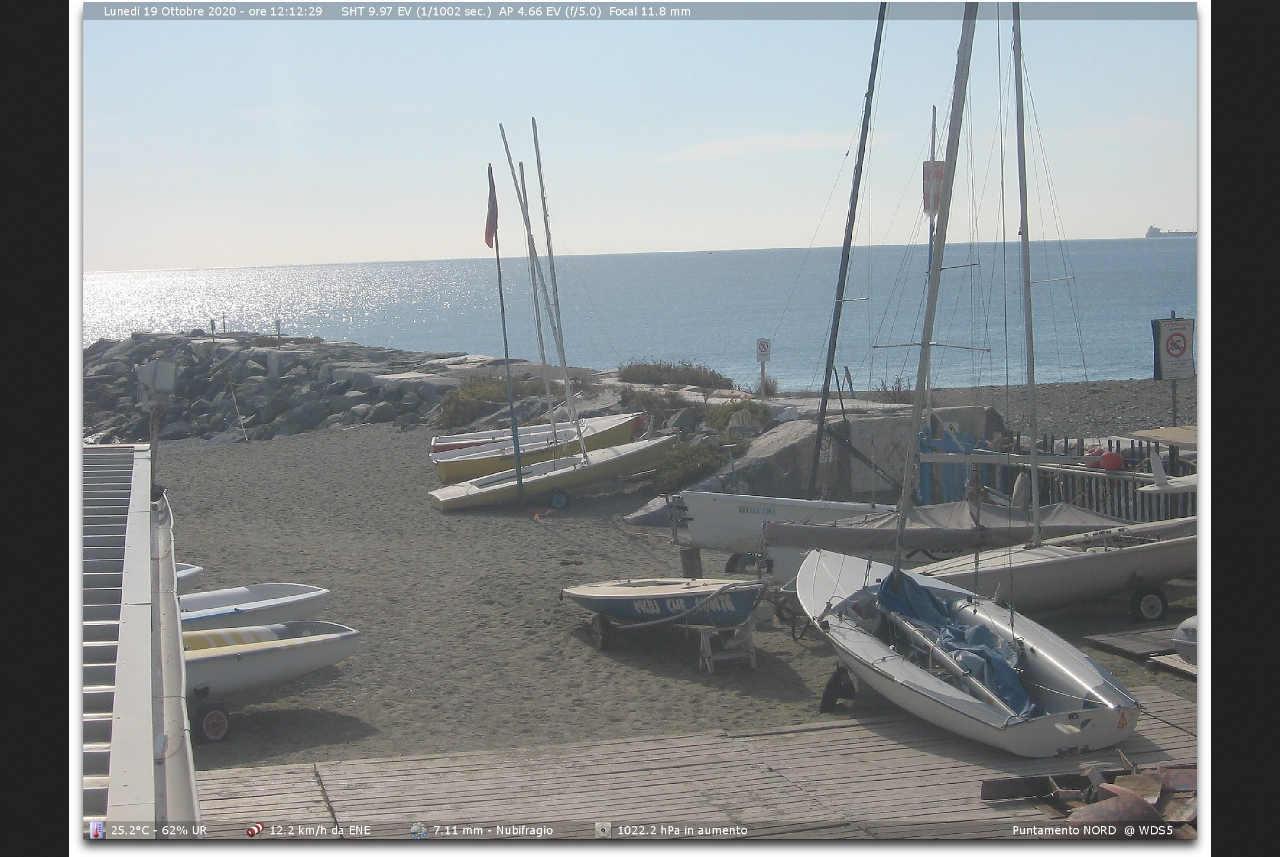no: (476, 172, 507, 254)
